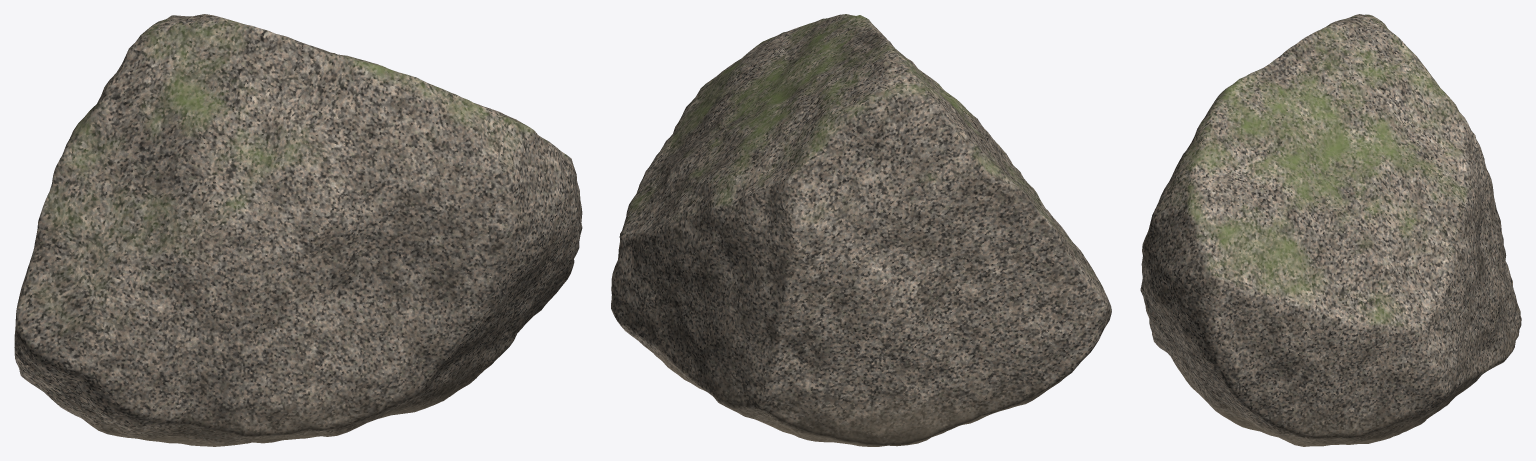
Rendered from SM_Rock_A_Body.fbx.
The picture shows the model from 3 angles, left to right: view 1: azimuth 30°, elevation 25°; view 2: azimuth 150°, elevation 25°; view 3: azimuth 270°, elevation 25°; orthographic projection. The views are drawn at different scales.
Visible parts, largest first — view 1: Rock_A_Body; view 2: Rock_A_Body; view 3: Rock_A_Body.
Part boxes in pixels (x1=…): Rock_A_Body: x1=14, y1=14, x2=582, y2=446; Rock_A_Body: x1=611, y1=14, x2=1111, y2=446; Rock_A_Body: x1=1140, y1=14, x2=1521, y2=446.
Bounding box in the file's own units: 1.37 × 1.85 × 1.32.
1 material, 1 textured.
